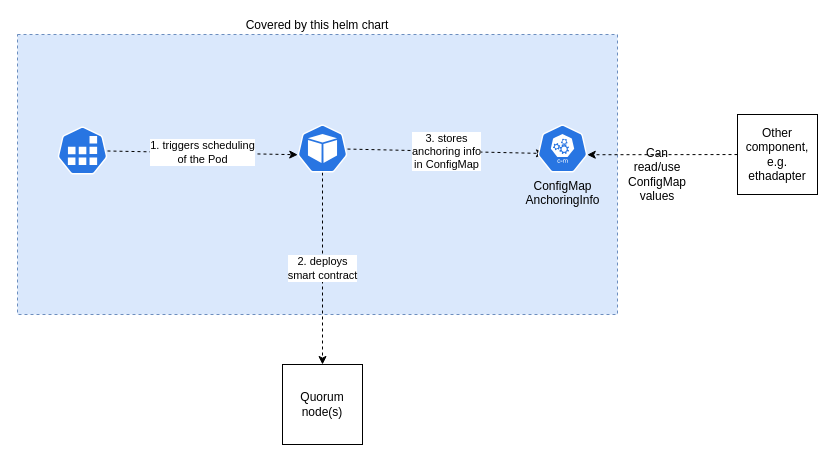
This 835x462 diagram has some shape labels left out. The centre of each missing label's shape, as x and y in pixels:
Job: point (82, 150)
Pod: point (322, 148)
